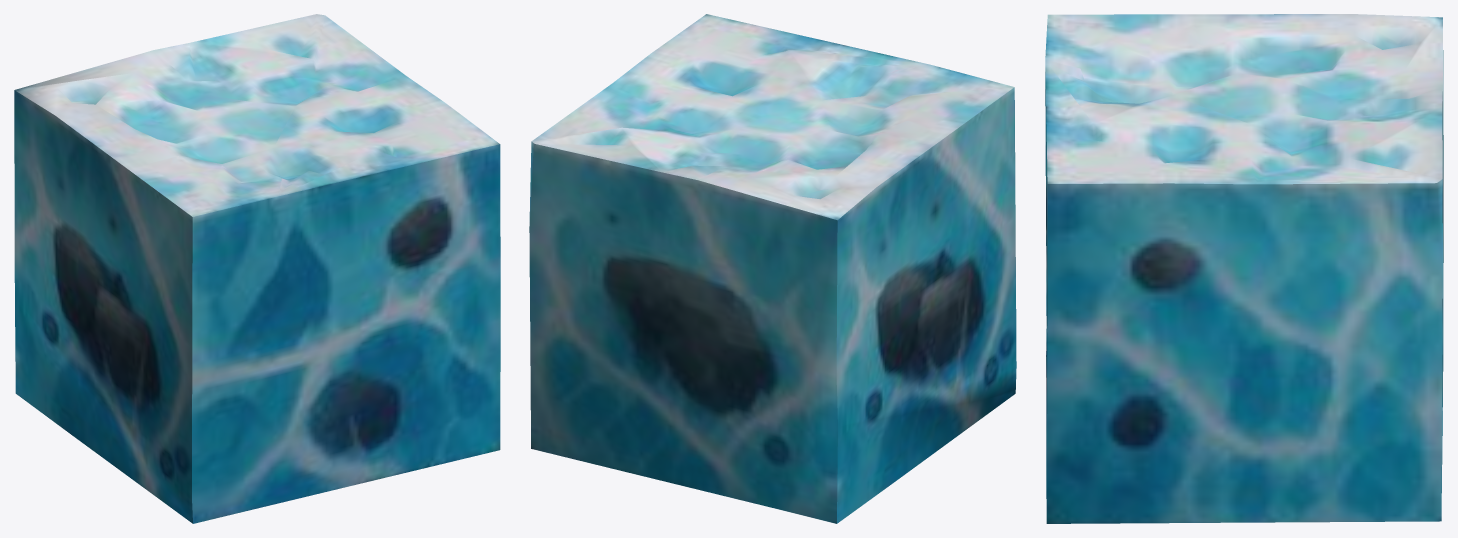
Rendered from b_givre_mur_2_lo.glb.
3 renders of one model, left to right at view 1: azimuth 30°, elevation 25°; view 2: azimuth 150°, elevation 25°; view 3: azimuth 270°, elevation 25°, orthographic. The views are drawn at different scales.
Visible parts, largest first — view 1: geometry_0; view 2: geometry_0; view 3: geometry_0.
Part boxes in pixels (box(x1,y1,x2,y2)): geometry_0: box(14, 14, 500, 523); geometry_0: box(529, 14, 1016, 523); geometry_0: box(1045, 14, 1443, 523).
Size of the model in its own units: 0.996 by 0.9566 by 0.9983.
Materials: 1 (1 with a texture image).
